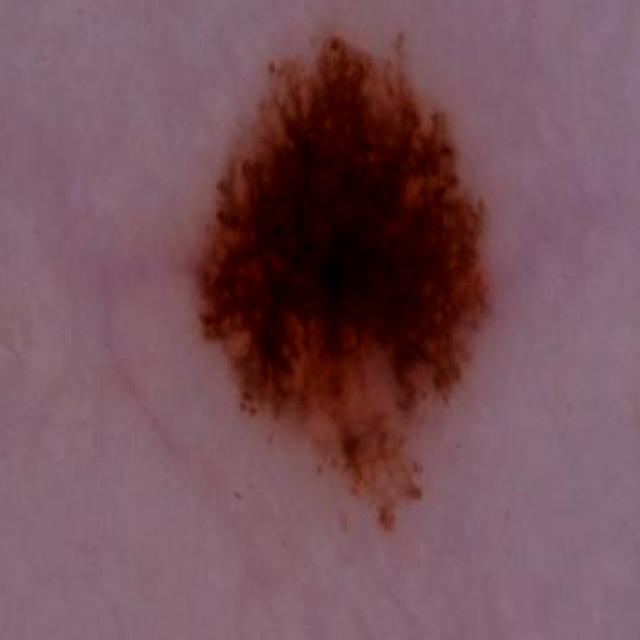NV: (193, 35, 505, 532)
